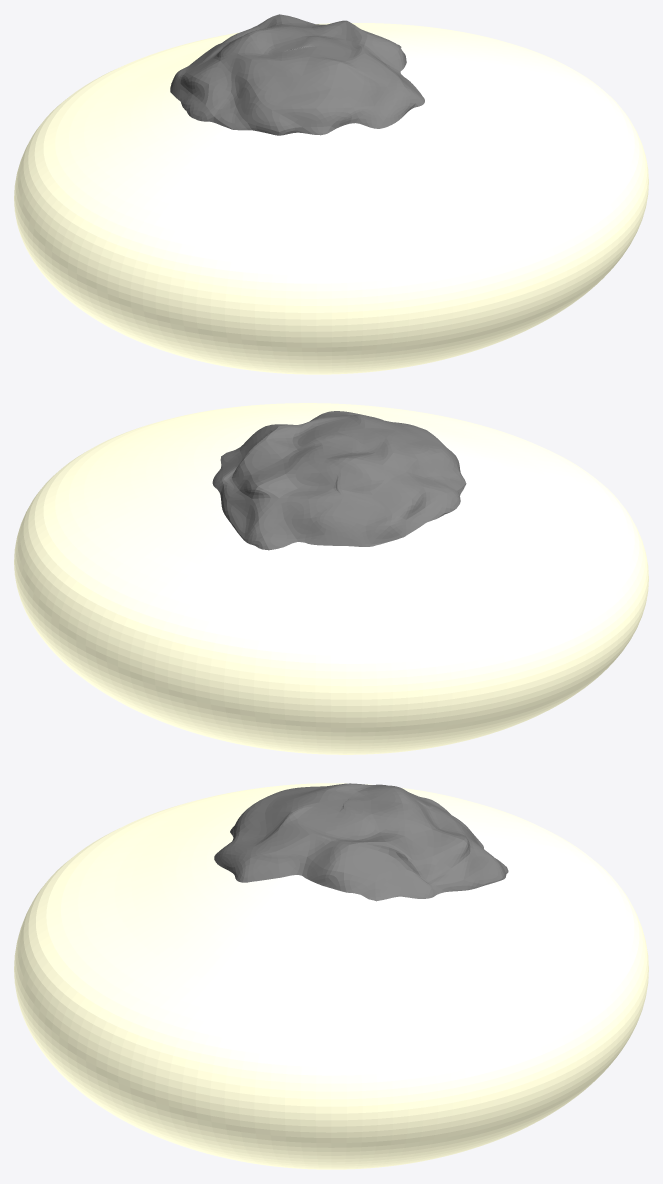
File: PlaceholderTerrain.fbx
3 views of the same model, one above another, from view 1: azimuth 30°, elevation 25°; view 2: azimuth 150°, elevation 25°; view 3: azimuth 270°, elevation 25° (orthographic). The views are drawn at different scales.
Visible parts, largest first — view 1: Sphere, Icosphere_002; view 2: Sphere, Icosphere_002; view 3: Sphere, Icosphere_002.
Boxes of the visible parts, <box> form: Sphere: <box>14,23,648,374</box>; Icosphere_002: <box>170,14,424,135</box>; Sphere: <box>14,403,648,754</box>; Icosphere_002: <box>212,411,466,550</box>; Sphere: <box>14,783,648,1169</box>; Icosphere_002: <box>214,783,508,901</box>.
Size of the model in its own units: 86.86 by 41.26 by 80.74.
